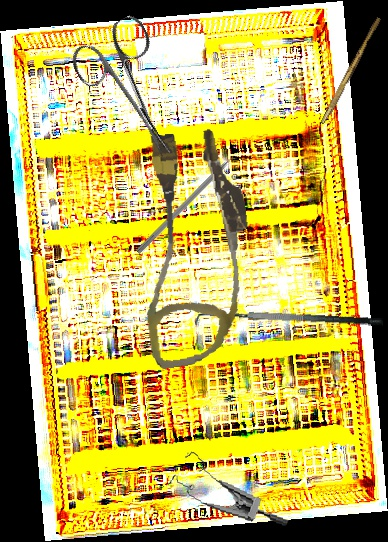Cannula: (121, 124, 267, 371)
Iris Scissors: (64, 11, 204, 174)
Pusher: (135, 142, 249, 256)
Scalpel Handle: (320, 15, 382, 127)
Spatula Surgical: (194, 304, 384, 342)
Speculum: (165, 448, 297, 528)
